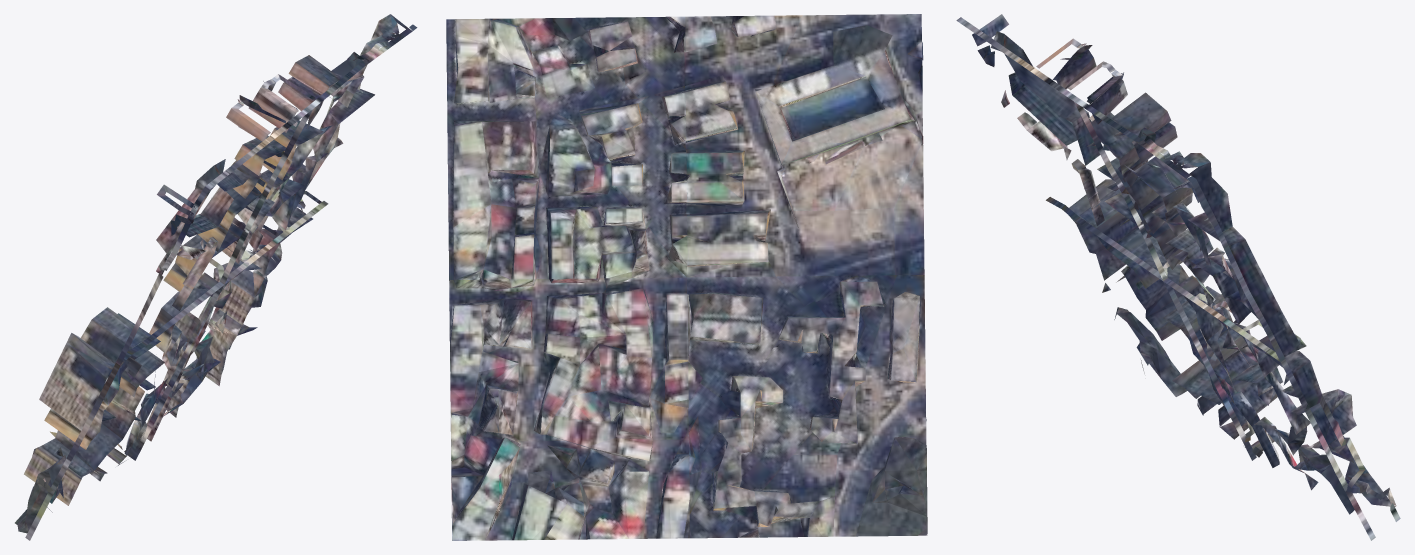
3 renders of one model, left to right at view 1: azimuth 30°, elevation 25°; view 2: azimuth 150°, elevation 25°; view 3: azimuth 270°, elevation 25°, orthographic. The views are drawn at different scales.
Size of the model in its own units: 309 by 292 by 274.
1 material, 1 textured.
